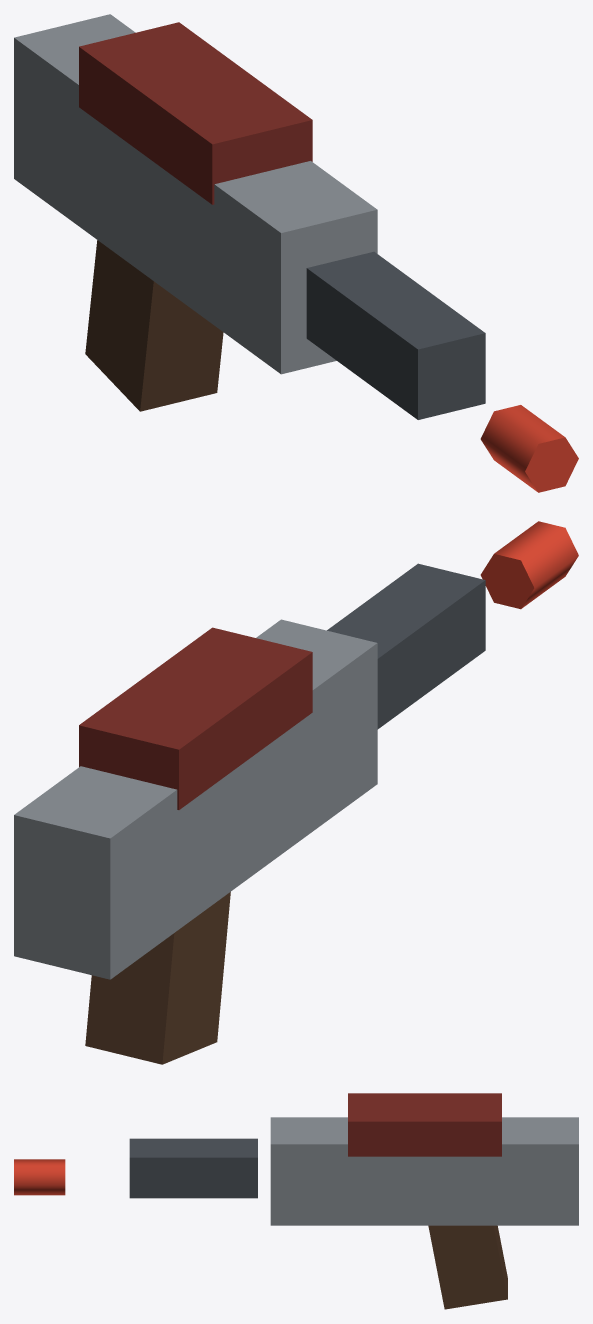
3 renders of one model, top to bottom at view 1: azimuth 30°, elevation 25°; view 2: azimuth 150°, elevation 25°; view 3: azimuth 270°, elevation 25°, orthographic. The views are drawn at different scales.
Parts seen in each view (by area): view 1: garde_weapon_laser_pistol; view 2: garde_weapon_laser_pistol; view 3: garde_weapon_laser_pistol.
Boxes of the visible parts, box(x1,y1,x2,y2) form: garde_weapon_laser_pistol: box(14, 14, 578, 492); garde_weapon_laser_pistol: box(14, 521, 578, 1064); garde_weapon_laser_pistol: box(14, 1093, 578, 1309).
Size of the model in its own units: 0.052 by 0.1643 by 0.44.
